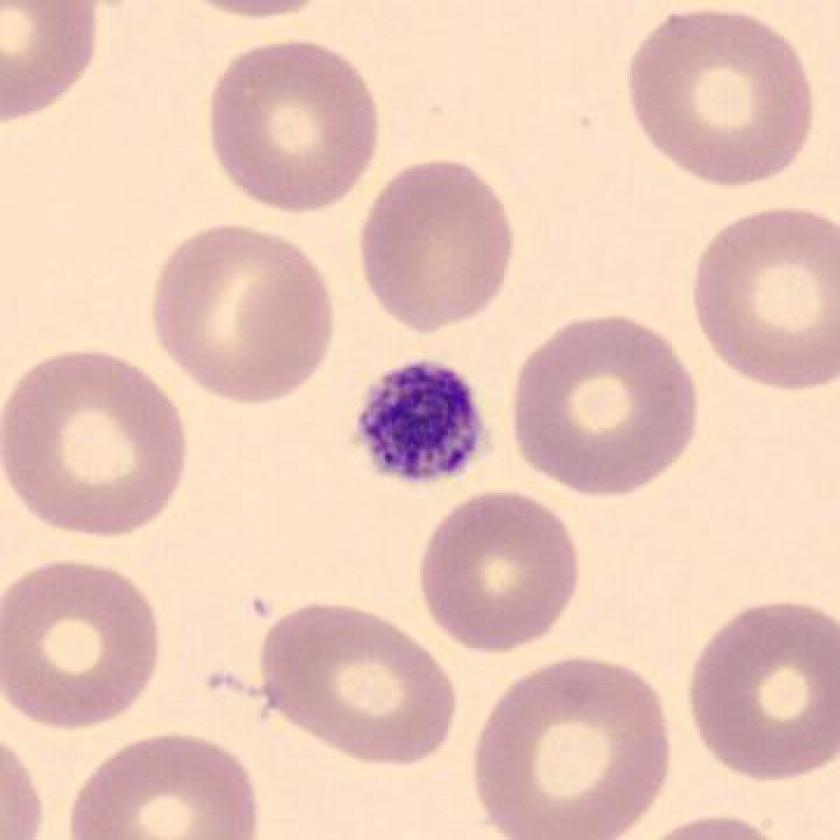platelets: (344, 355, 496, 496)
